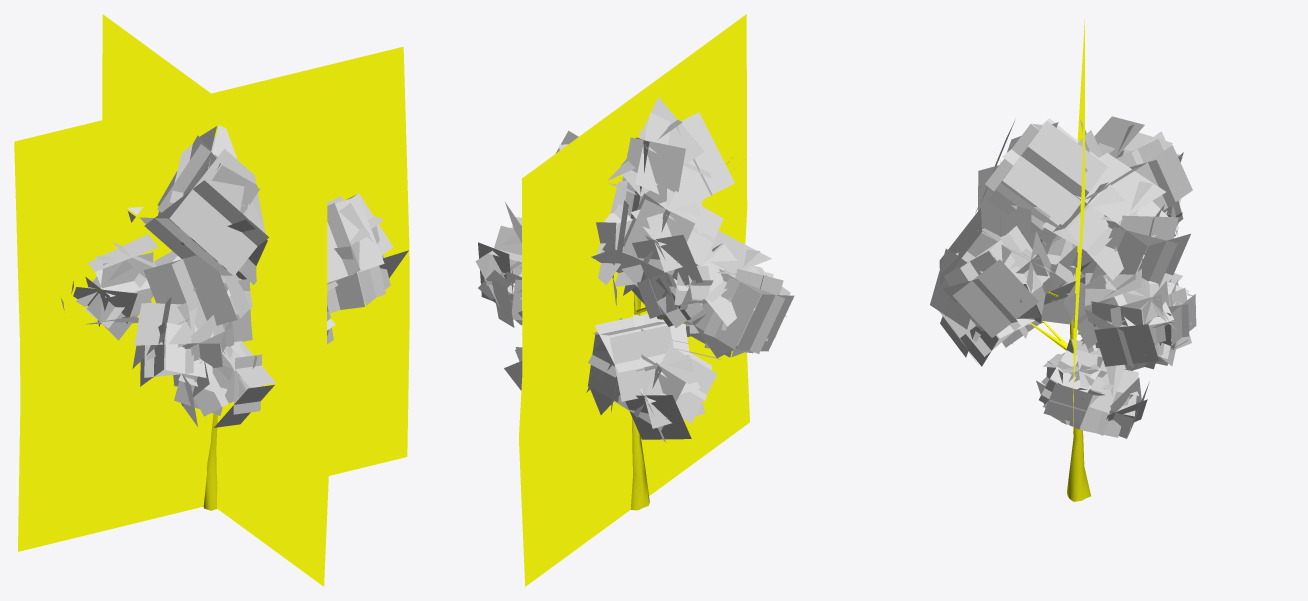
The model's file is Foliage_Trees_Tree_3_Oak_OakTree2_MidBlend.glb.
3 renders of one model, left to right at view 1: azimuth 30°, elevation 25°; view 2: azimuth 150°, elevation 25°; view 3: azimuth 270°, elevation 25°, orthographic. The views are drawn at different scales.
Parts seen in each view (by area): view 1: Tree3MidBlend; view 2: Tree3MidBlend; view 3: Tree3MidBlend.
Boxes of the visible parts, left/top/right/bottom form: Tree3MidBlend: left=14, top=14, right=409, bottom=586; Tree3MidBlend: left=475, top=14, right=794, bottom=586; Tree3MidBlend: left=930, top=19, right=1196, bottom=501.
Bounding box in the file's own units: 4.98 × 4.99 × 4.98.
3 materials, 2 textured.
